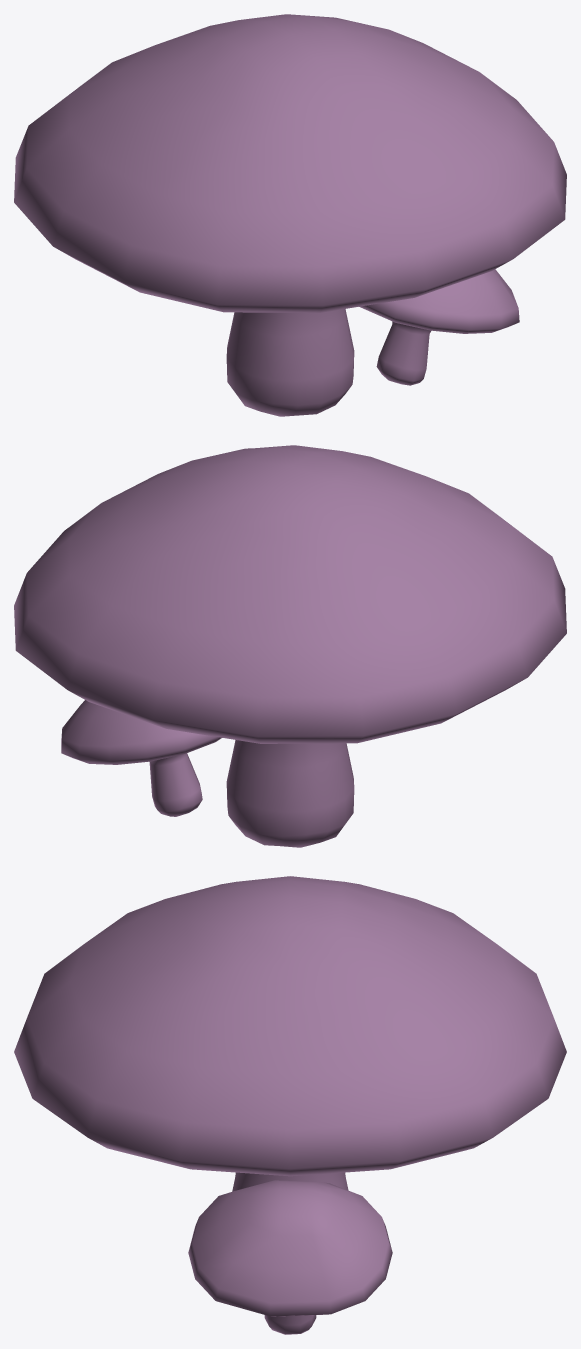
The model's file is mushroom1_LP.fbx.
3 renders of one model, top to bottom at view 1: azimuth 30°, elevation 25°; view 2: azimuth 150°, elevation 25°; view 3: azimuth 270°, elevation 25°, orthographic.
Visible parts, largest first — view 1: mushroom1_LP, mushroom2_LP; view 2: mushroom1_LP, mushroom2_LP; view 3: mushroom1_LP, mushroom2_LP.
Boxes of the visible parts, x1,y1,x2,y2 form: mushroom1_LP: [14, 14, 566, 416]; mushroom2_LP: [359, 269, 519, 385]; mushroom1_LP: [14, 445, 566, 847]; mushroom2_LP: [61, 700, 221, 816]; mushroom1_LP: [14, 876, 566, 1191]; mushroom2_LP: [188, 1180, 392, 1334].
Size of the model in its own units: 288 by 217 by 288.
